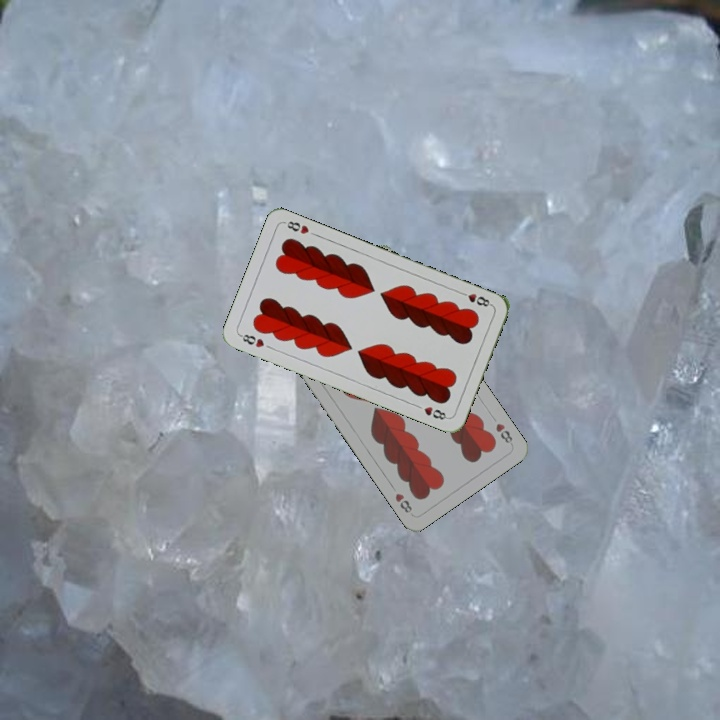H8: (456, 288, 494, 309), (491, 419, 516, 448), (236, 330, 267, 350)
